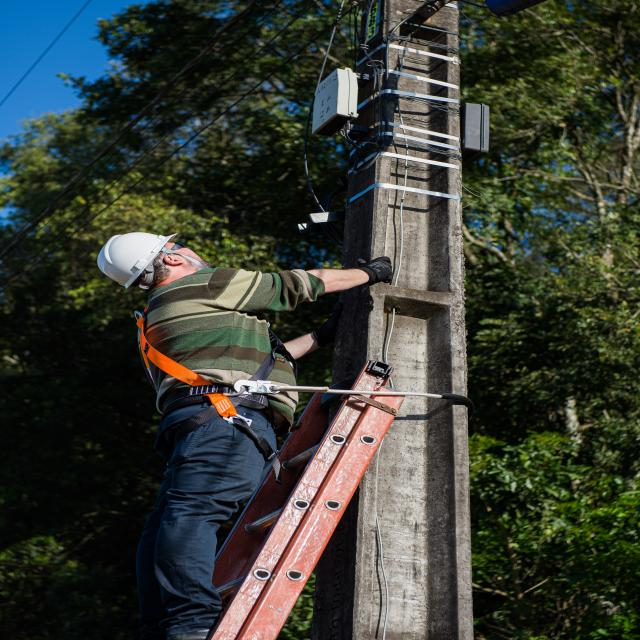capacete: (95, 232, 179, 290)
luva: (351, 255, 395, 286)
